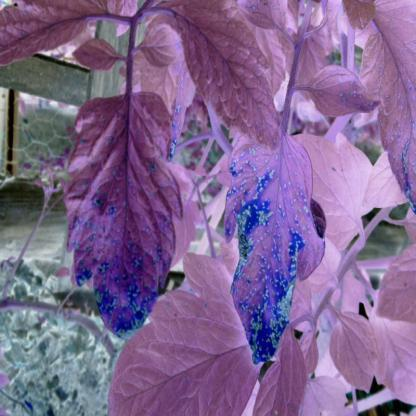Tomato Septoria leaf spot: (63, 92, 189, 349), (224, 128, 328, 370)
